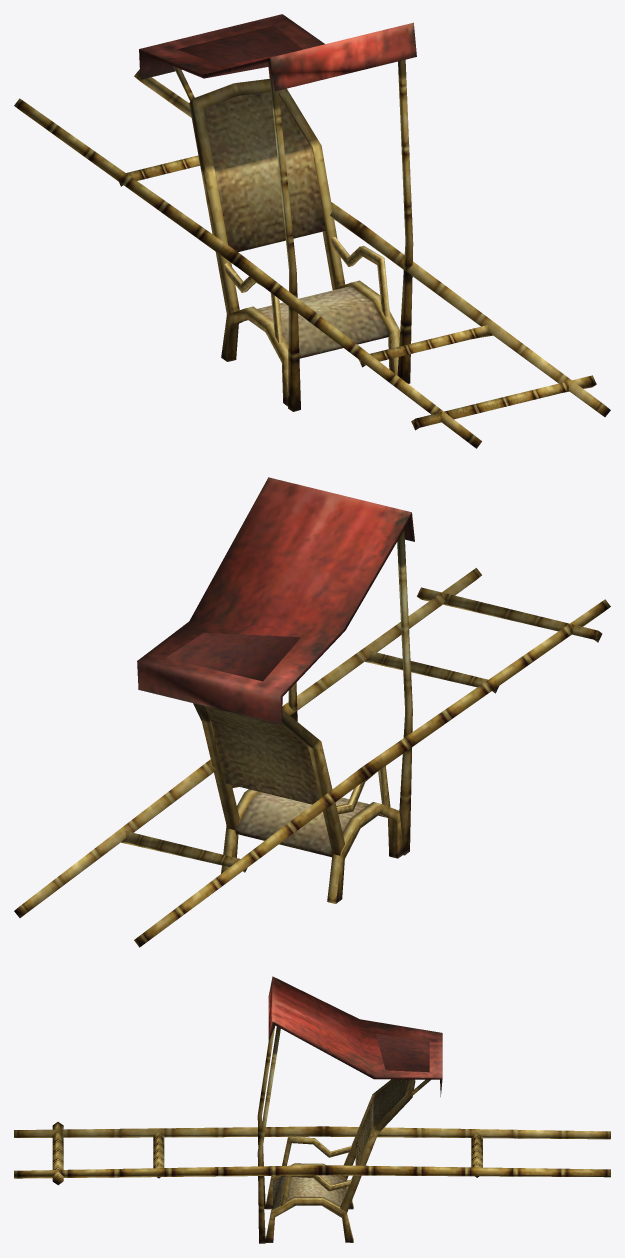
The model's file is b_general_obj_09.fbx.
3 views of the same model, one above another, from view 1: azimuth 30°, elevation 25°; view 2: azimuth 150°, elevation 25°; view 3: azimuth 270°, elevation 25° (orthographic). The views are drawn at different scales.
Visible parts, largest first — view 1: Object05; view 2: Object05; view 3: Object05.
Boxes of the visible parts, x1,y1,x2,y2 form: Object05: (14,14,610,448); Object05: (14,477,610,947); Object05: (14,976,610,1243).
Bounding box in the file's own units: 1.24 × 2.34 × 5.59.
